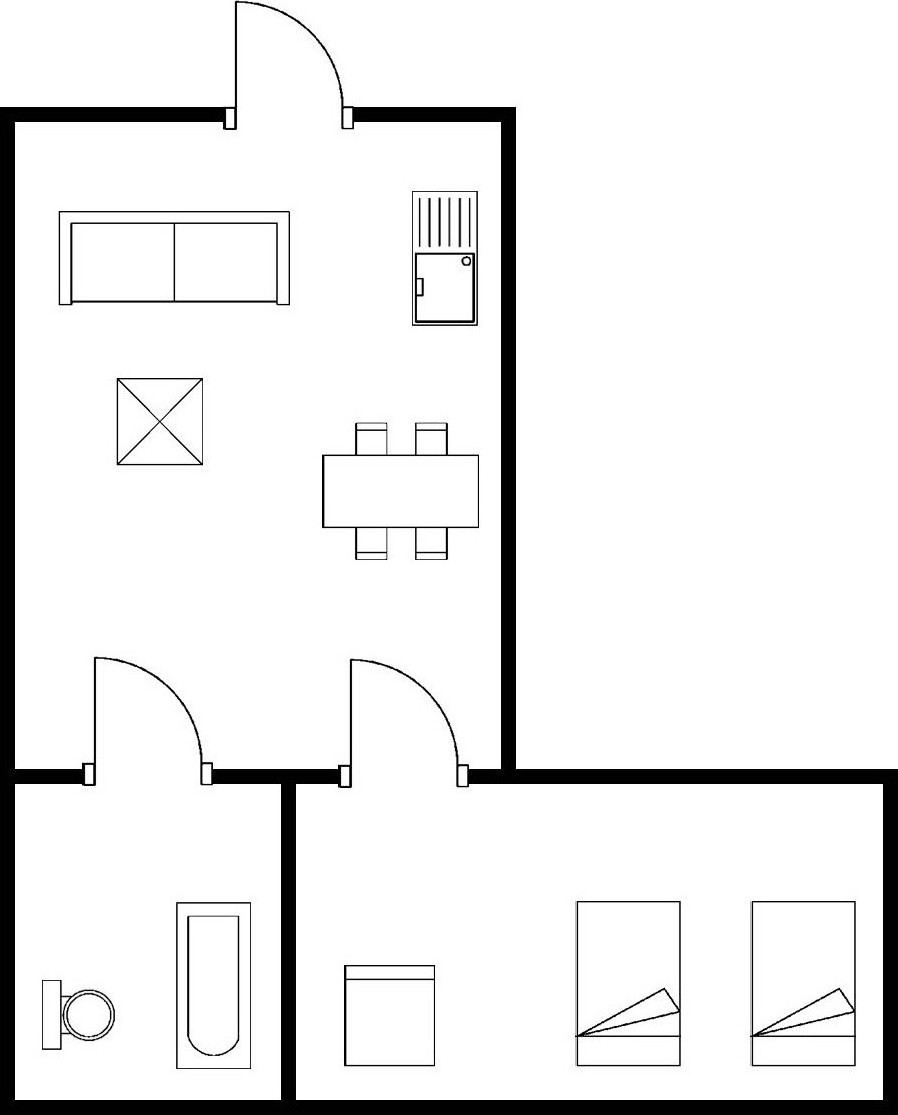bed: (746, 893, 864, 1076), (569, 895, 686, 1073)
coffee_table: (110, 372, 209, 471)
dining_table: (319, 418, 485, 568)
large_sink: (35, 974, 121, 1061)
large_sofa: (54, 204, 297, 310)
sink: (406, 183, 486, 333)
small_sofa: (339, 959, 441, 1074)
tub: (168, 894, 260, 1079)
